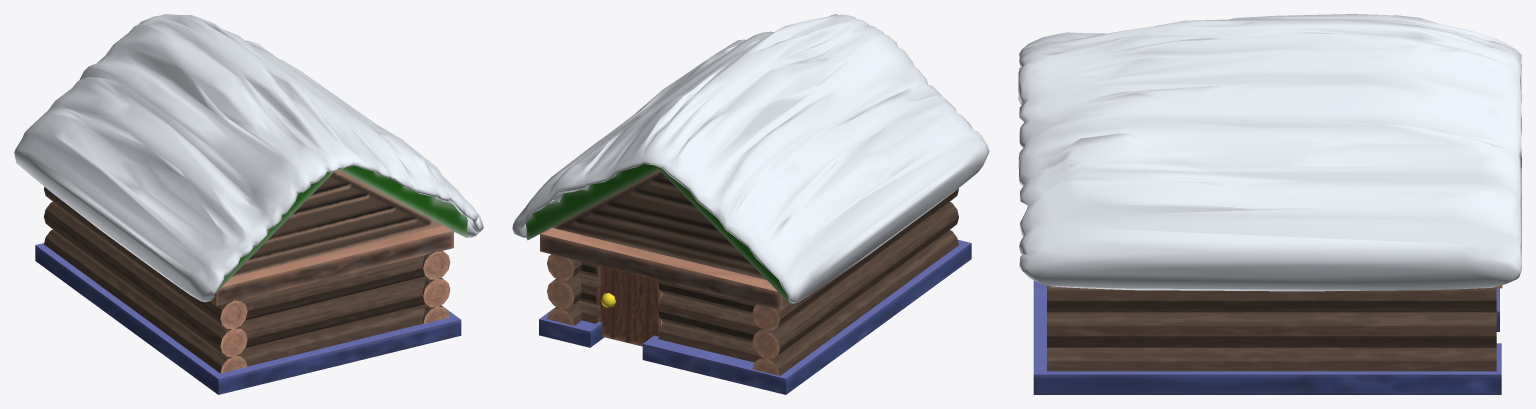
The model's file is cabin_3.glb.
3 views of the same model, side by side, from view 1: azimuth 30°, elevation 25°; view 2: azimuth 150°, elevation 25°; view 3: azimuth 270°, elevation 25° (orthographic). The views are drawn at different scales.
Parts seen in each view (by area): view 1: Snow, Wall Back.004, Wall Right.003, Base.002, Top of House.002, Plank.015, Roof.002, Wall Left.003; view 2: Snow, Wall Right.003, Base.002, Top of House.002, Wall Front.005, Plank.015, Door, Roof.002, Wall Left.003; view 3: Snow, Wall Left.003, Base.002.
Part boxes in pixels (box(x1,y1,x2,y2)): Snow: box(14, 14, 483, 302); Wall Back.004: box(239, 255, 426, 366); Wall Right.003: box(44, 187, 247, 373); Base.002: box(35, 243, 461, 394); Top of House.002: box(231, 169, 442, 277); Plank.015: box(210, 225, 453, 305); Roof.002: box(215, 165, 467, 293); Wall Left.003: box(422, 250, 450, 323); Snow: box(512, 14, 989, 303); Wall Right.003: box(752, 188, 958, 375); Base.002: box(539, 240, 971, 394); Top of House.002: box(552, 170, 766, 279); Wall Front.005: box(578, 261, 761, 362); Plank.015: box(540, 227, 789, 309); Door: box(598, 266, 663, 346); Roof.002: box(526, 163, 792, 304); Wall Left.003: box(547, 254, 581, 325); Snow: box(1018, 14, 1521, 291); Wall Left.003: box(1047, 285, 1496, 371); Base.002: box(1033, 280, 1501, 394).
Size of the model in its own units: 6.37 by 5.11 by 7.75.
8 materials, 7 textured.
